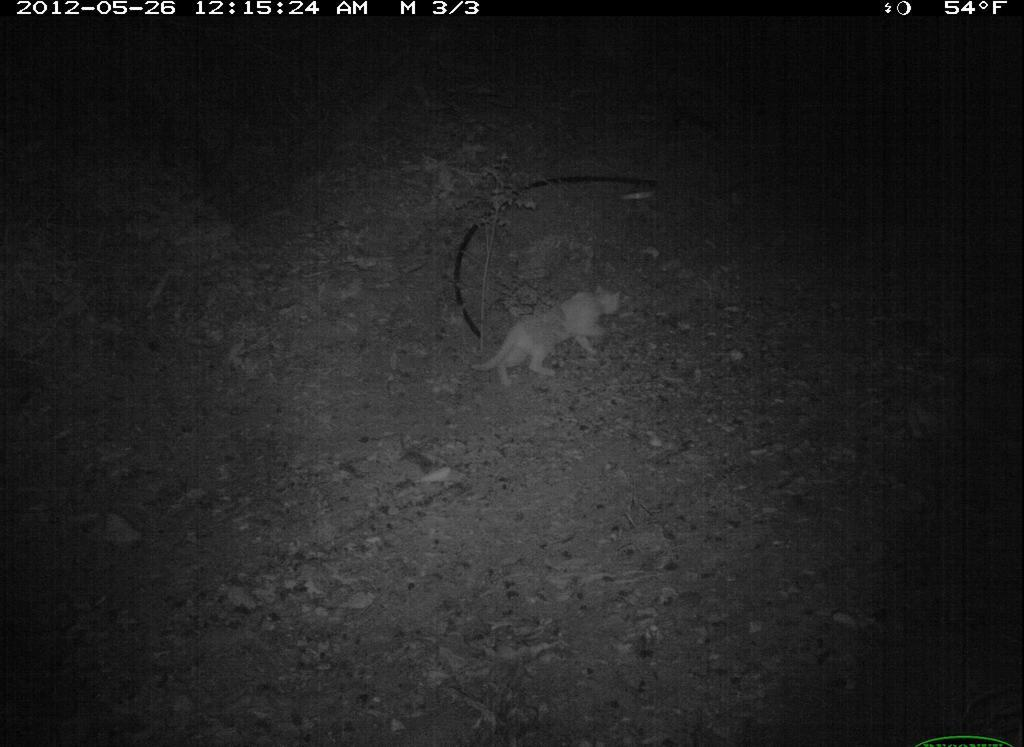cat: (467, 280, 635, 390)
